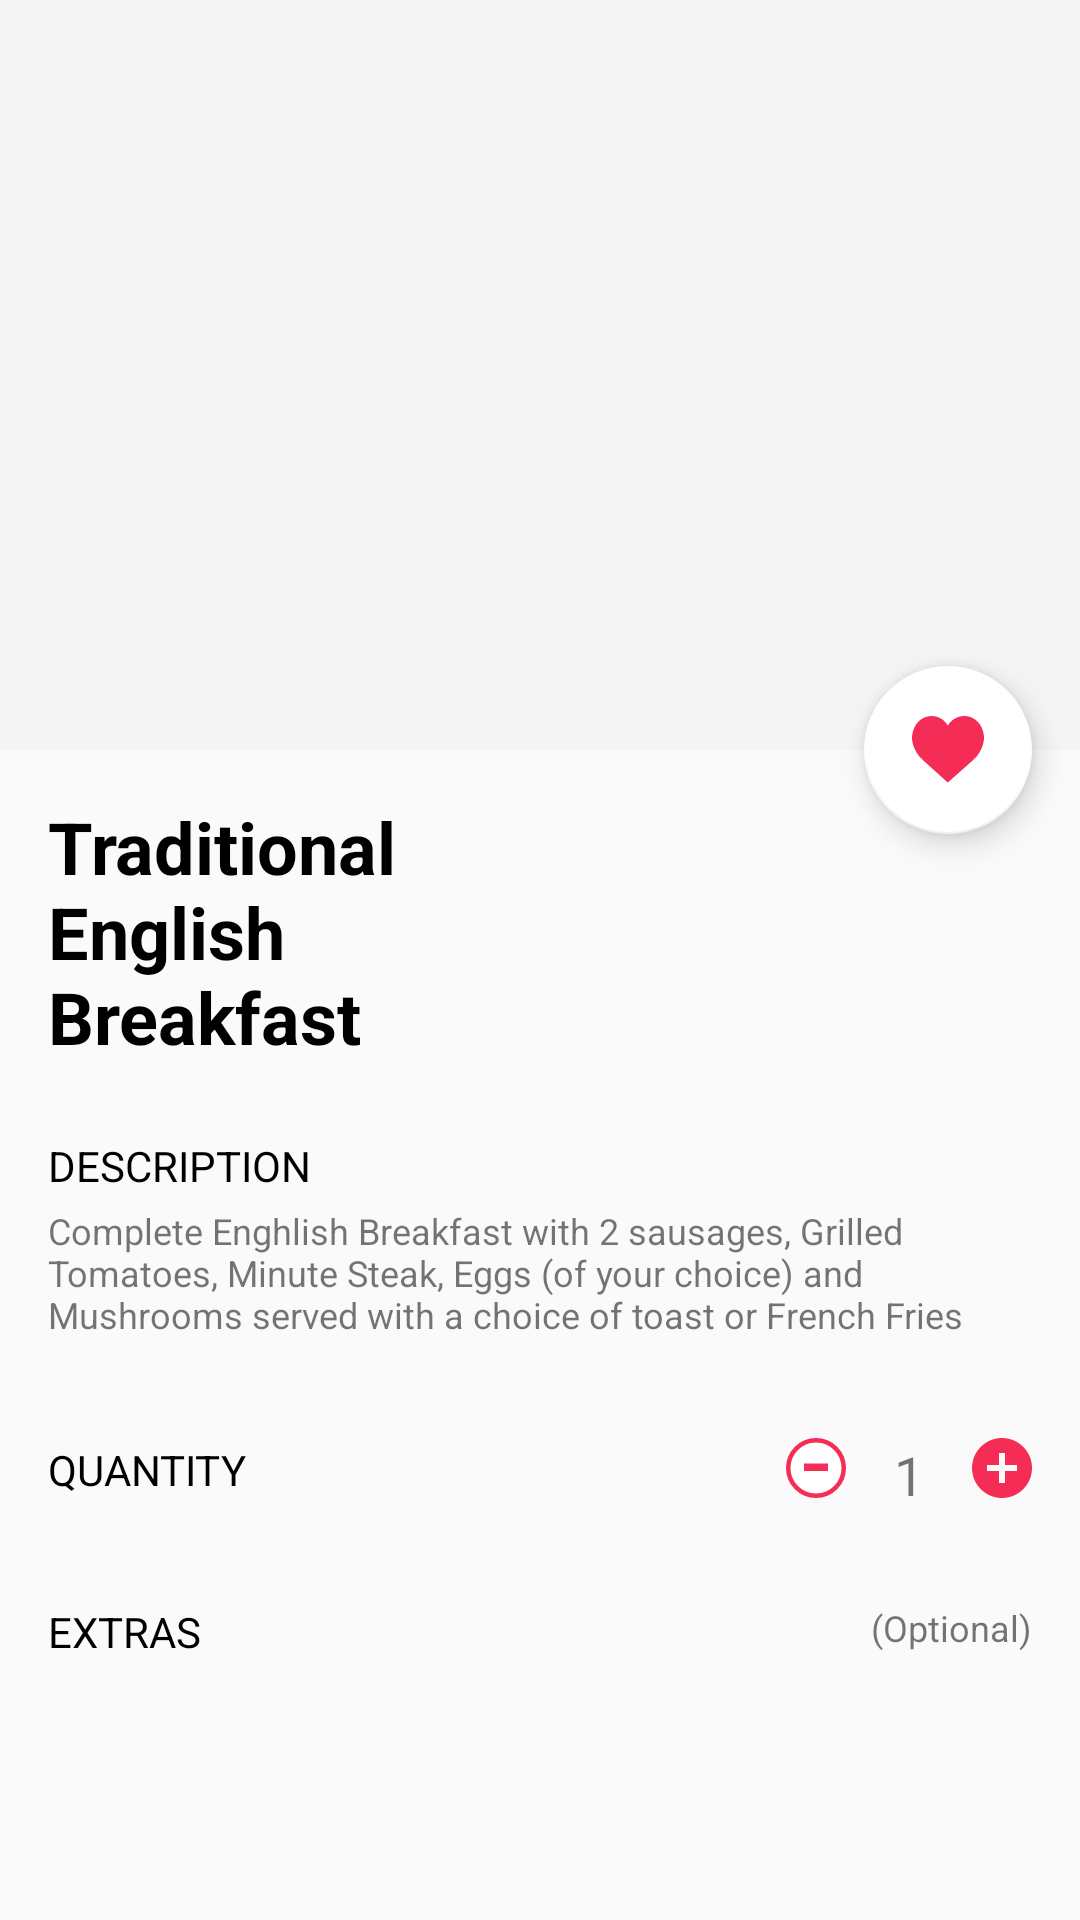

Point at icon controls on the screen. Image size 1080px×1920px, points as (x=x, y=y).
add: (x=1002, y=1468)
like: (x=948, y=750)
sub: (x=816, y=1468)
